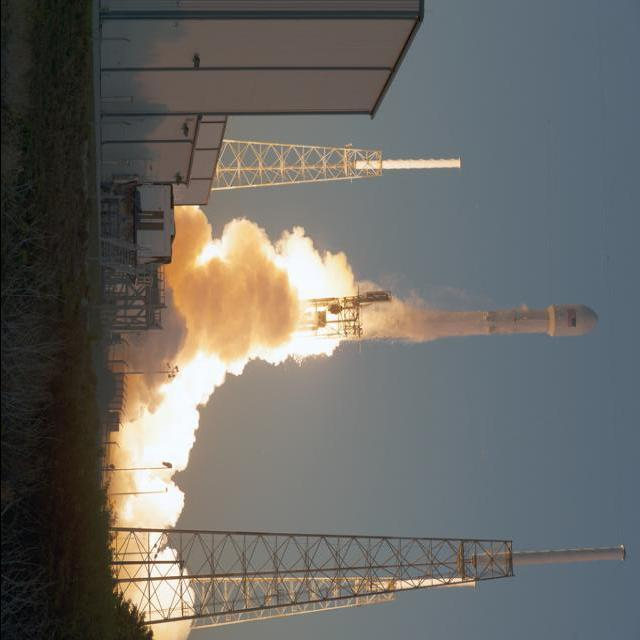missile: (336, 286, 603, 380)
